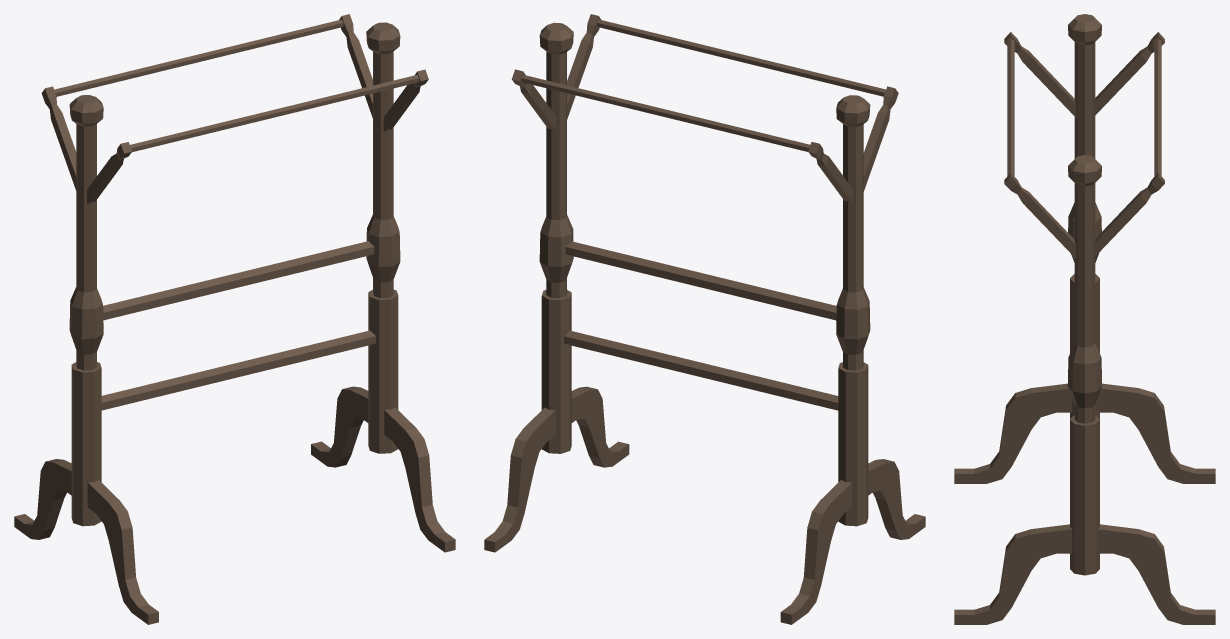
The model's file is Hanger_towel.fbx.
The picture shows the model from 3 angles, left to right: view 1: azimuth 30°, elevation 25°; view 2: azimuth 150°, elevation 25°; view 3: azimuth 270°, elevation 25°; orthographic projection. The views are drawn at different scales.
Parts seen in each view (by area): view 1: Hanger_towel; view 2: Hanger_towel; view 3: Hanger_towel.
Boxes of the visible parts, bbox=[...] form: Hanger_towel: bbox=[14, 14, 455, 624]; Hanger_towel: bbox=[484, 14, 925, 624]; Hanger_towel: bbox=[954, 14, 1215, 624].
Size of the model in its own units: 53.84 by 38.21 by 74.72.
